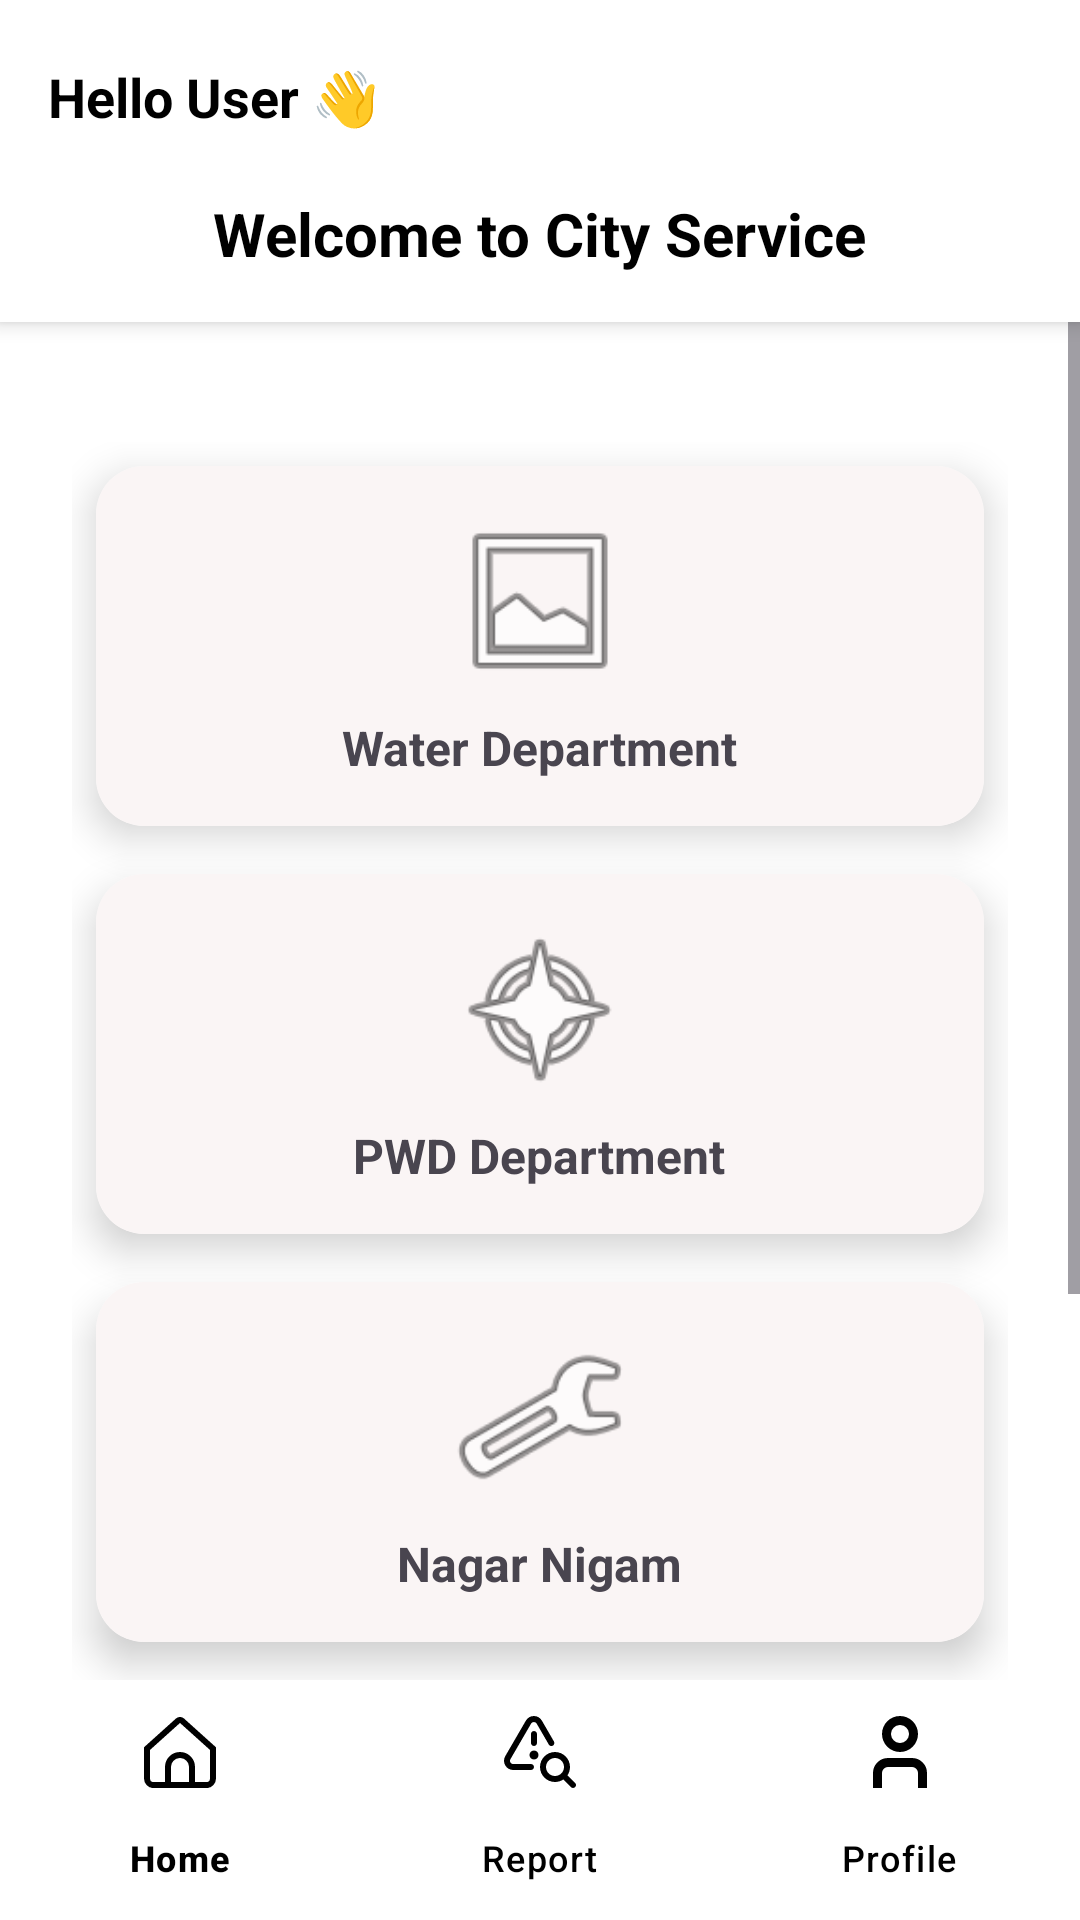

Named icons in this screenshot (1080px x 1920px) and their centers, point (x, y):
compass: point (539, 1010)
gallery: point (540, 601)
manage: point (540, 1417)
